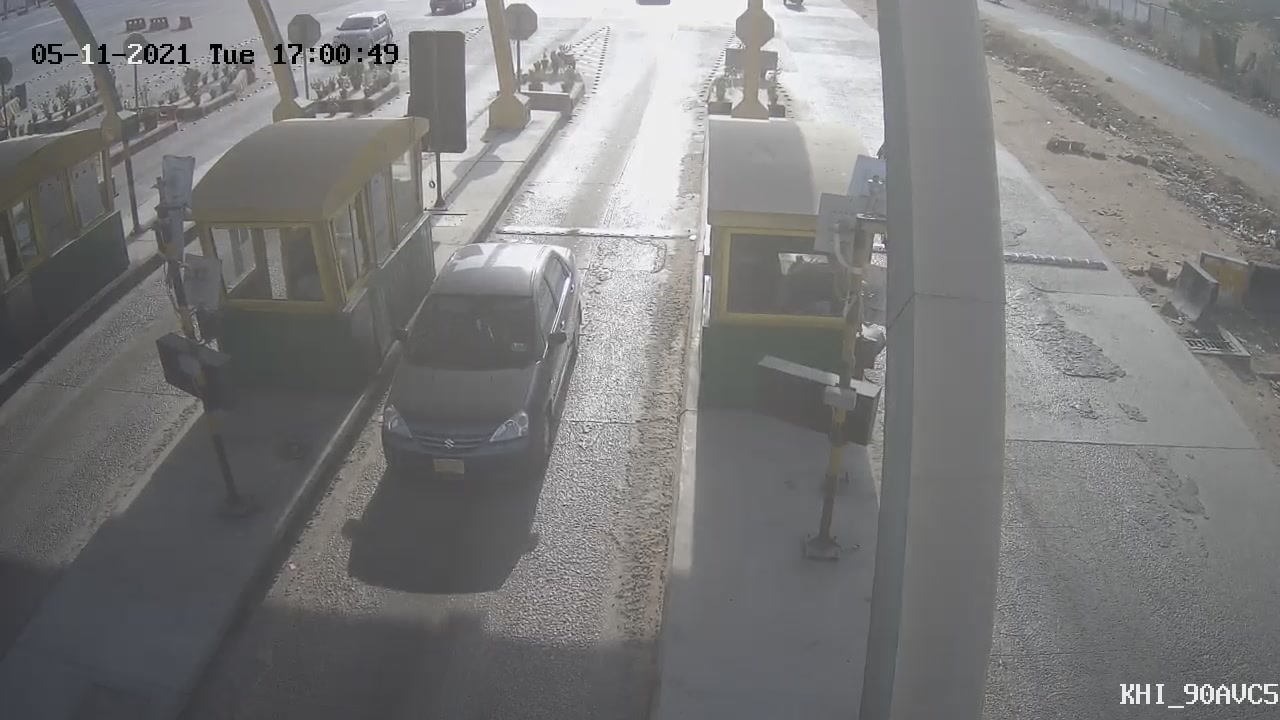F1: (342, 214, 611, 516)
